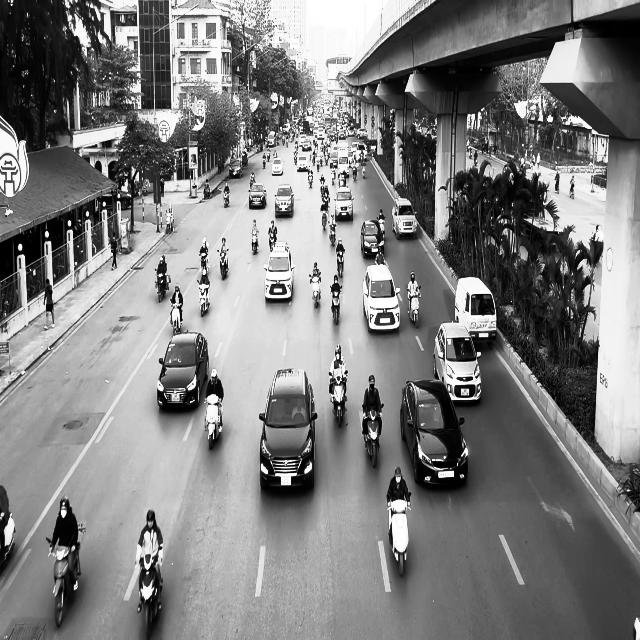car: (400, 378, 468, 487), (259, 367, 317, 491), (156, 330, 208, 410), (433, 322, 482, 404), (362, 261, 400, 333), (263, 240, 294, 302), (392, 197, 417, 239), (360, 219, 385, 257), (274, 184, 294, 217), (334, 187, 354, 220), (248, 183, 266, 208), (228, 159, 242, 178), (271, 157, 283, 175)
motorbike: (45, 522, 86, 627), (136, 550, 163, 639), (386, 492, 412, 576), (362, 404, 383, 468), (328, 370, 348, 427), (204, 394, 222, 450), (407, 287, 421, 328), (154, 268, 170, 302), (197, 277, 210, 316), (330, 286, 342, 324), (309, 273, 321, 308), (170, 300, 182, 335), (217, 248, 229, 280), (336, 249, 344, 277), (268, 229, 276, 252), (251, 232, 259, 254), (223, 190, 230, 208)
